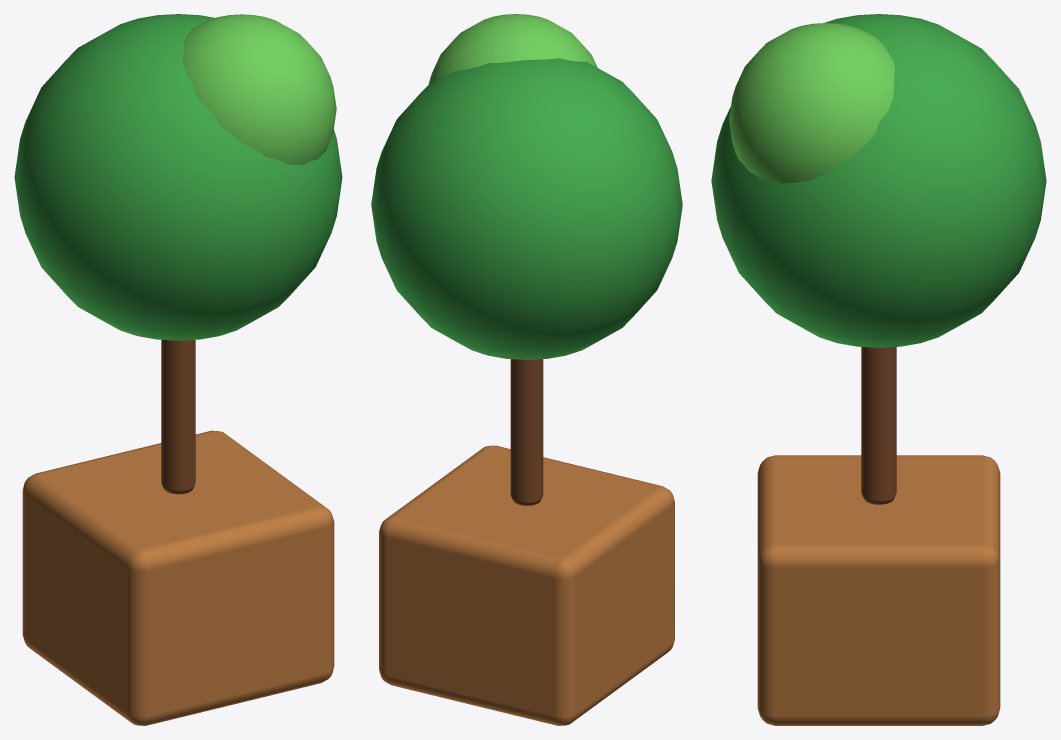
Rendered from topiary.glb.
3 renders of one model, left to right at view 1: azimuth 30°, elevation 25°; view 2: azimuth 150°, elevation 25°; view 3: azimuth 270°, elevation 25°, orthographic. The views are drawn at different scales.
Visible parts, largest first — view 1: topiary; view 2: topiary; view 3: topiary.
Boxes of the visible parts, box(x1,y1,x2,y2) form: topiary: box(14, 14, 342, 725); topiary: box(371, 14, 682, 725); topiary: box(711, 14, 1046, 725).
Size of the model in its own units: 0.76 by 1.67 by 0.76.
